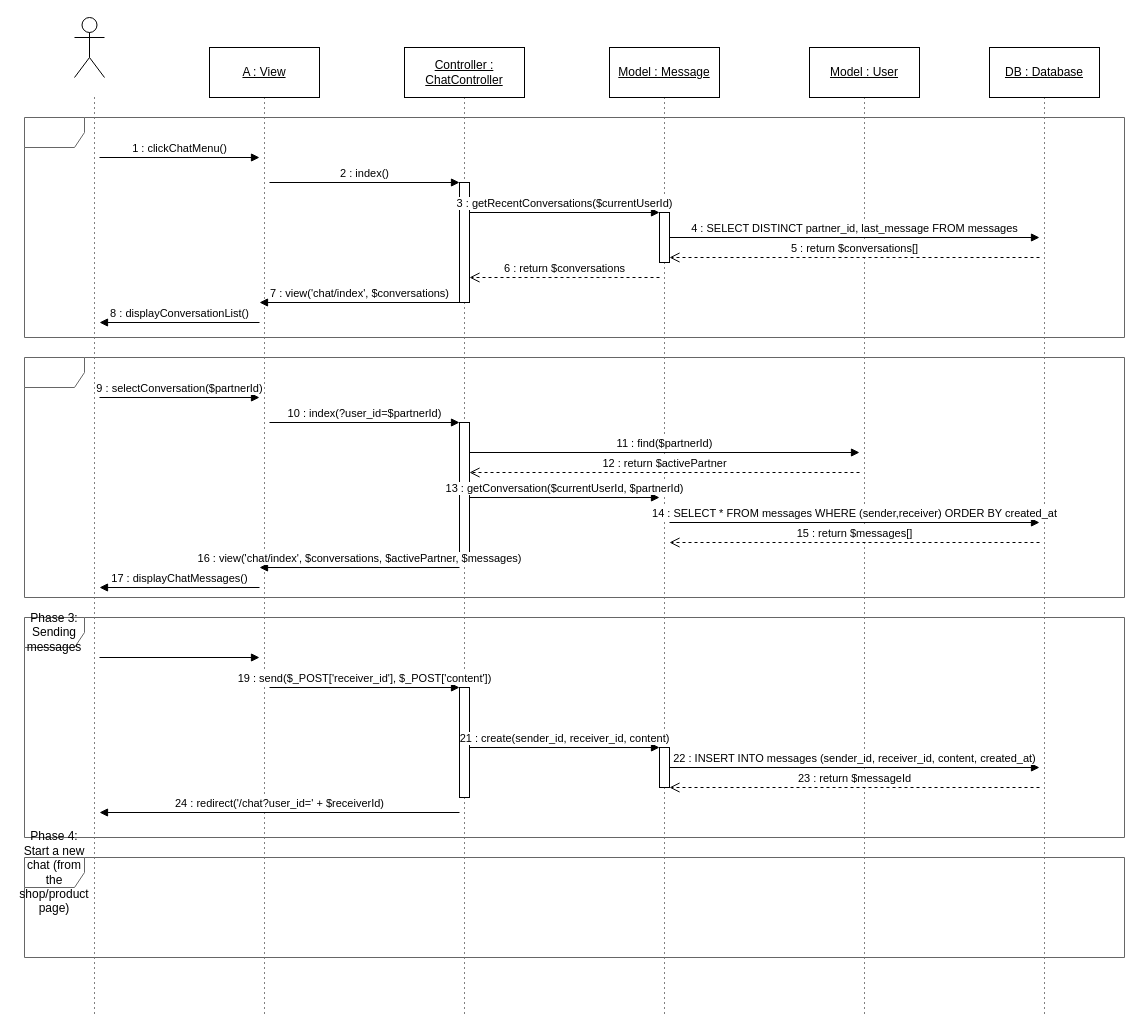
The diagram is 1142 pixels wide and 1036 high, and some of its shapes have lost their labels. Each missing label, with the centre of its shape:
Phas 1: Display the list of conversations: [574,227]
Phase 2: Initiating a conversation: [574,477]
User: [89,47]
